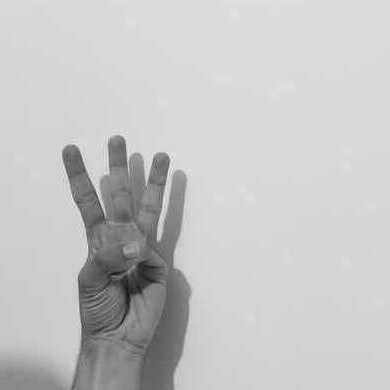W: (61, 134, 171, 352)
